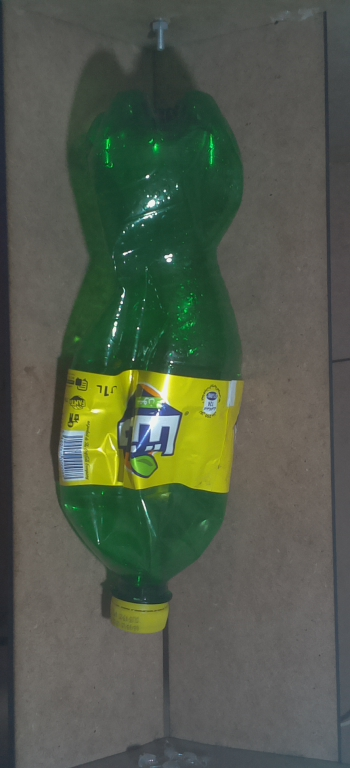Bouteille_1L: (52, 89, 253, 643)
